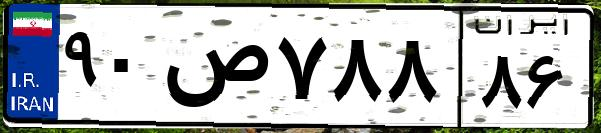0: (110, 28, 158, 98)
6: (525, 38, 570, 115)
7: (270, 28, 330, 110)
8: (385, 28, 445, 110), (330, 28, 385, 110), (475, 38, 525, 113)
9: (57, 26, 110, 100)
ص: (158, 20, 270, 120)
